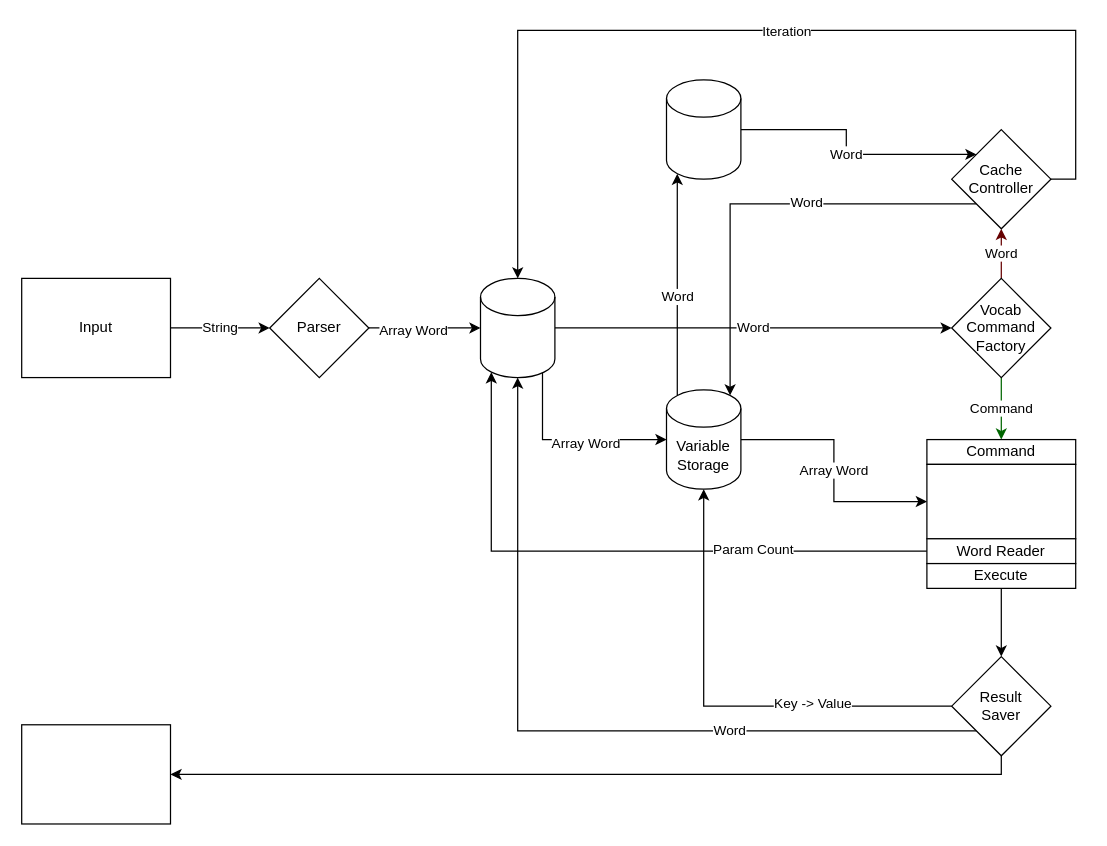
Some shapes in this 1107 by 846 pixel diagram are drawn without their labels. Here are the shapes that lost their labels. From the top down, the box of each, then its label:
(665, 79, 741, 179): Cache
(479, 277, 555, 378): Stack
(926, 463, 1076, 539): Task Param Count Array Word
(20, 724, 170, 824): Output UI
